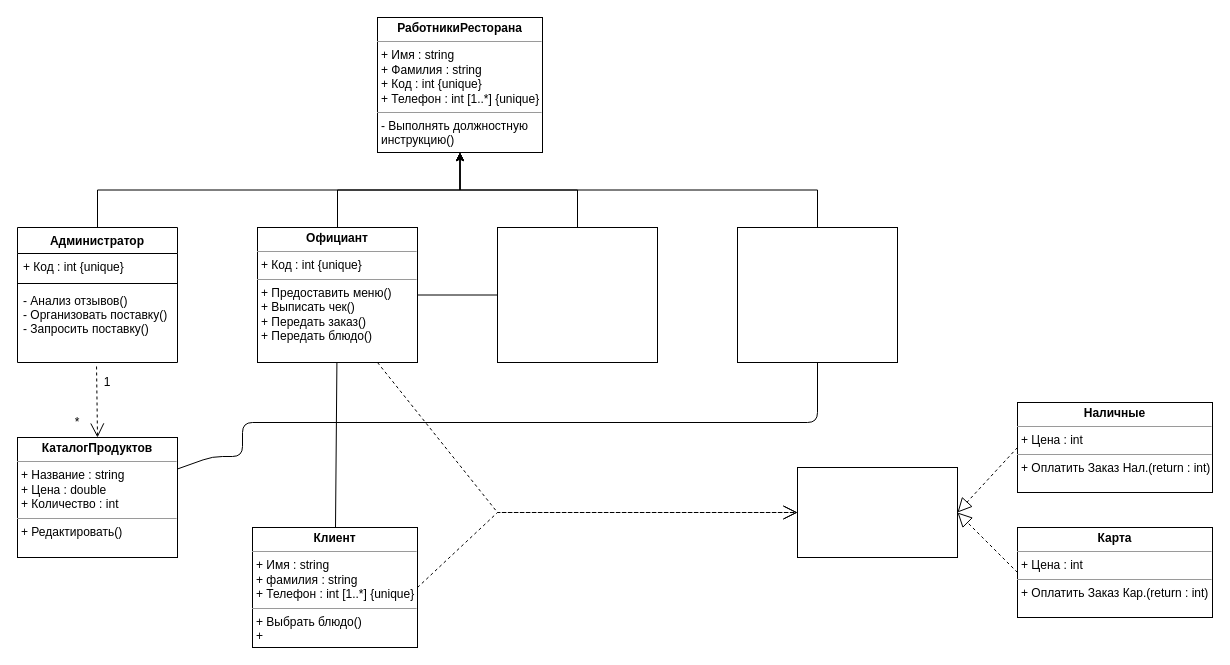
The diagram is 1230 pixels wide and 665 high, and some of its shapes have lost their labels. Here are the shapes that lost their labels. From the top down, the centre of each, then its label:
the point at 577,294: Повар + Код : int {inique} - Приготовить блюдо() + Передать блюдо()
the point at 817,294: Поставщик + Код : int {unique} - Поставка продуктов() - Посмотреть Каталог()
the point at 877,512: Расчет + Чек : string + Прием оплаты()
